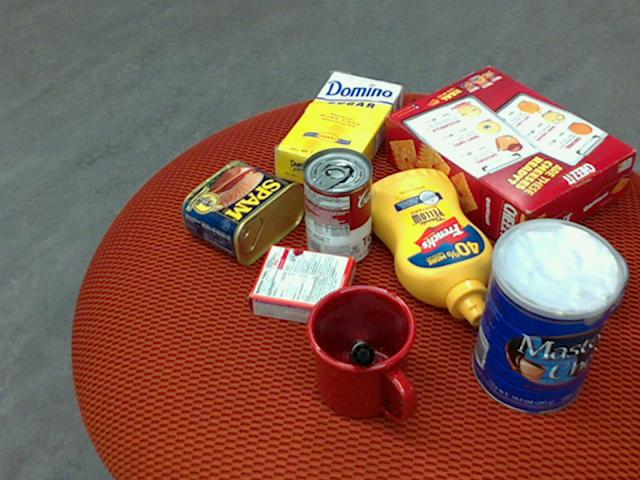cracker_box: (384, 65, 634, 255)
gelatin_box: (244, 244, 351, 331)
large_marker: (349, 338, 374, 366)
master_chef_can: (470, 219, 624, 415)
mug: (302, 284, 415, 421)
mustard_bottle: (361, 168, 492, 326)
potted_meat_can: (180, 158, 304, 265)
sugar_box: (273, 71, 402, 193)
tomato_soup_can: (301, 145, 372, 265)
tuna_fish_can: (533, 234, 628, 320)
